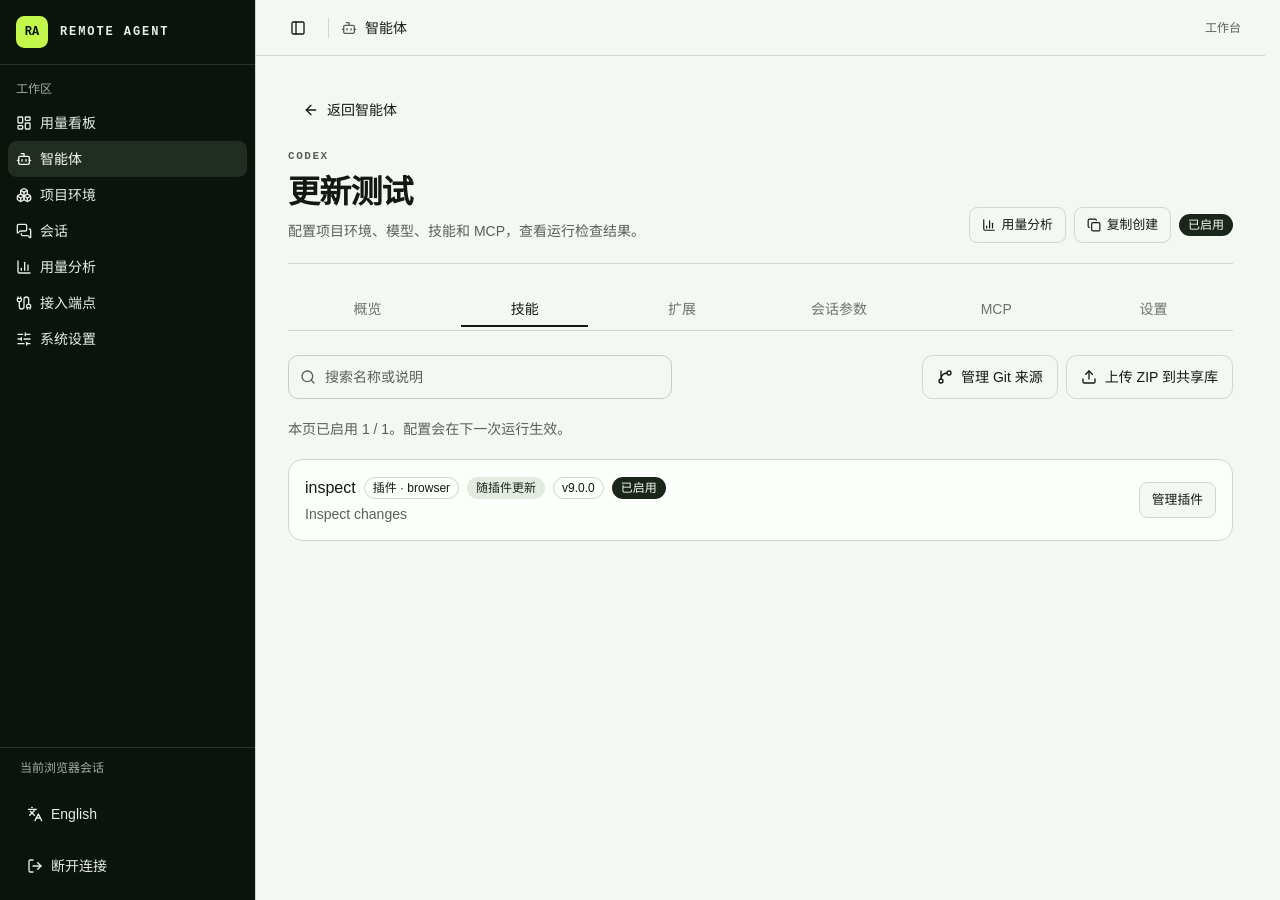
Test: 插件自带技能展示自动更新状态，并通过插件统一管理（enabled=true）
expect the text "随插件更新" is shown: met, box [467, 477, 545, 499]
expect the text "插件 · browser" is shown: met, box [364, 477, 459, 499]
Click the link with aria-label "管理 browser 插件" at (1177, 500), box [1139, 482, 1216, 518]
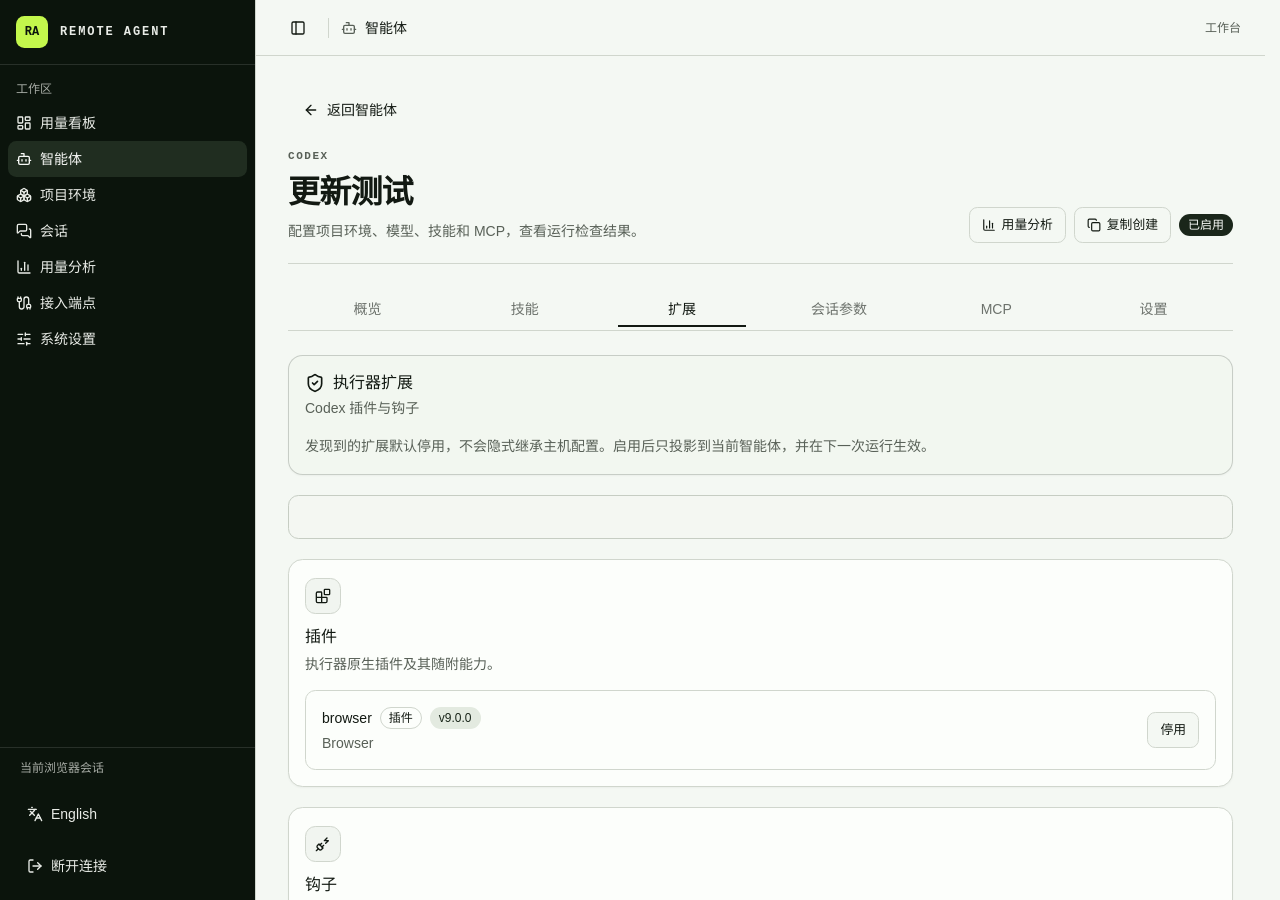
expect the heading "执行器扩展" is shown: met, box [333, 372, 413, 394]
